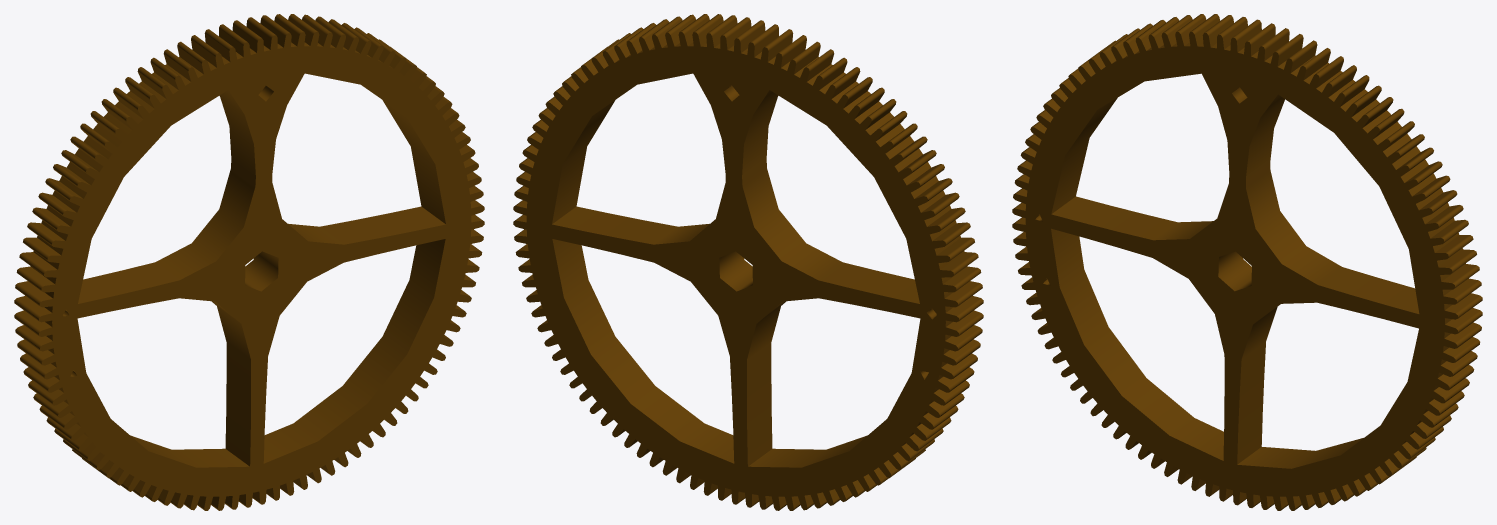
The model's file is Couronne barillet_Quarts.obj.
3 renders of one model, left to right at view 1: azimuth 30°, elevation 25°; view 2: azimuth 150°, elevation 25°; view 3: azimuth 330°, elevation 25°, orthographic.
Parts seen in each view (by area): view 1: Face_2, Face_403, Face_409, Face_398, Face_404, Face_410, Face_407, Face_412, Face_399, Face_395, Face_397, Face_405; view 2: Face_1, Face_403, Face_409, Face_398, Face_404, Face_410, Face_407, Face_412, Face_399, Face_395, Face_397, Face_405; view 3: Face_2, Face_399, Face_405, Face_400, Face_410, Face_404, Face_411, Face_403, Face_413, Face_395, Face_401, Face_409.
Boxes of the visible parts, bbox=[...] form: Face_2: bbox=[39, 32, 484, 510]; Face_403: bbox=[263, 239, 445, 463]; Face_409: bbox=[155, 169, 255, 280]; Face_398: bbox=[225, 342, 250, 466]; Face_404: bbox=[320, 206, 445, 244]; Face_410: bbox=[78, 262, 178, 303]; Face_407: bbox=[382, 100, 445, 223]; Face_412: bbox=[219, 90, 255, 176]; Face_399: bbox=[130, 435, 249, 467]; Face_395: bbox=[245, 251, 278, 291]; Face_397: bbox=[212, 301, 250, 359]; Face_405: bbox=[288, 223, 343, 244]; Face_1: bbox=[513, 32, 958, 510]; Face_403: bbox=[552, 239, 734, 463]; Face_409: bbox=[742, 169, 842, 280]; Face_398: bbox=[747, 342, 772, 466]; Face_404: bbox=[552, 206, 677, 244]; Face_410: bbox=[819, 262, 919, 303]; Face_407: bbox=[552, 100, 615, 223]; Face_412: bbox=[742, 90, 778, 176]; Face_399: bbox=[748, 435, 867, 467]; Face_395: bbox=[719, 251, 752, 291]; Face_397: bbox=[747, 301, 785, 359]; Face_405: bbox=[654, 223, 709, 244]; Face_2: bbox=[1012, 32, 1457, 510]; Face_399: bbox=[1051, 228, 1223, 460]; Face_405: bbox=[1246, 170, 1341, 284]; Face_400: bbox=[1237, 342, 1265, 464]; Face_410: bbox=[1051, 196, 1177, 239]; Face_404: bbox=[1318, 267, 1419, 313]; Face_411: bbox=[1051, 98, 1117, 213]; Face_403: bbox=[1237, 438, 1363, 468]; Face_413: bbox=[1246, 94, 1284, 178]; Face_395: bbox=[1218, 251, 1251, 291]; Face_401: bbox=[1242, 304, 1280, 358]; Face_409: bbox=[1153, 221, 1213, 240].
Size of the model in its own units: 0.0816 by 0.0817 by 0.0078.
